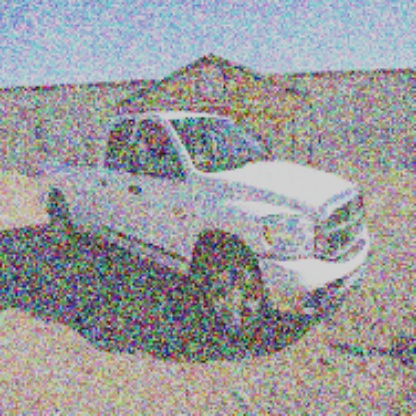Vehicle: (37, 114, 371, 344)
